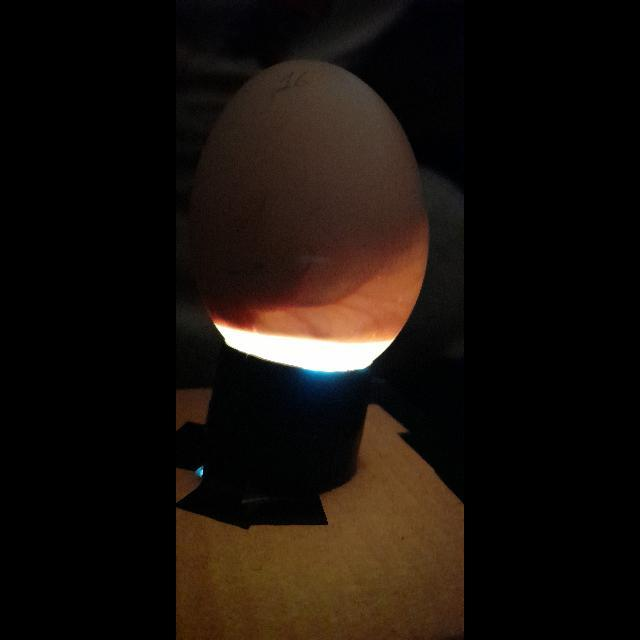Fertile: (192, 53, 434, 373)
